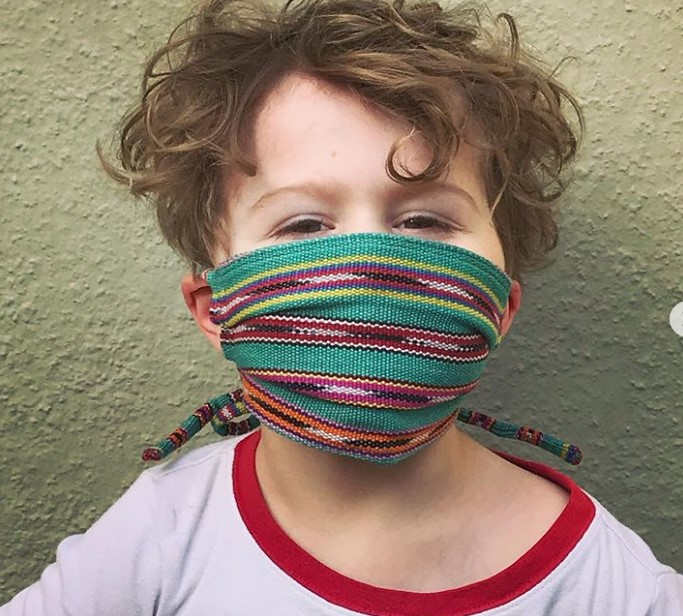face_with_mask: (203, 37, 514, 461)
